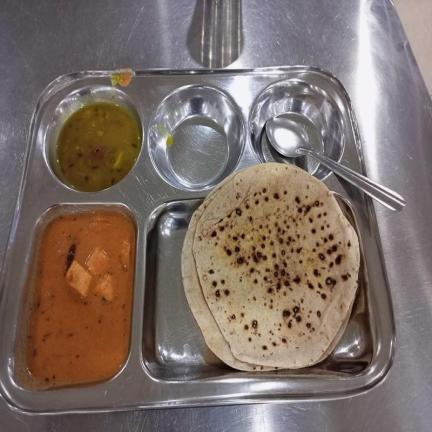Dal: (57, 102, 138, 190)
Paneer: (25, 209, 134, 385)
Plate: (0, 64, 397, 415)
Roti: (181, 162, 361, 372)
